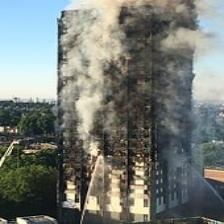smoke: (55, 1, 214, 217)
